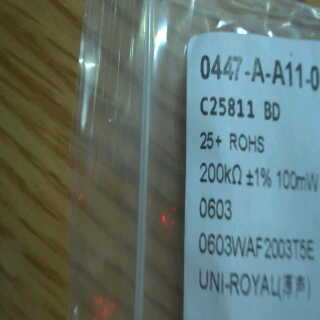200kR: (197, 157, 243, 187)
